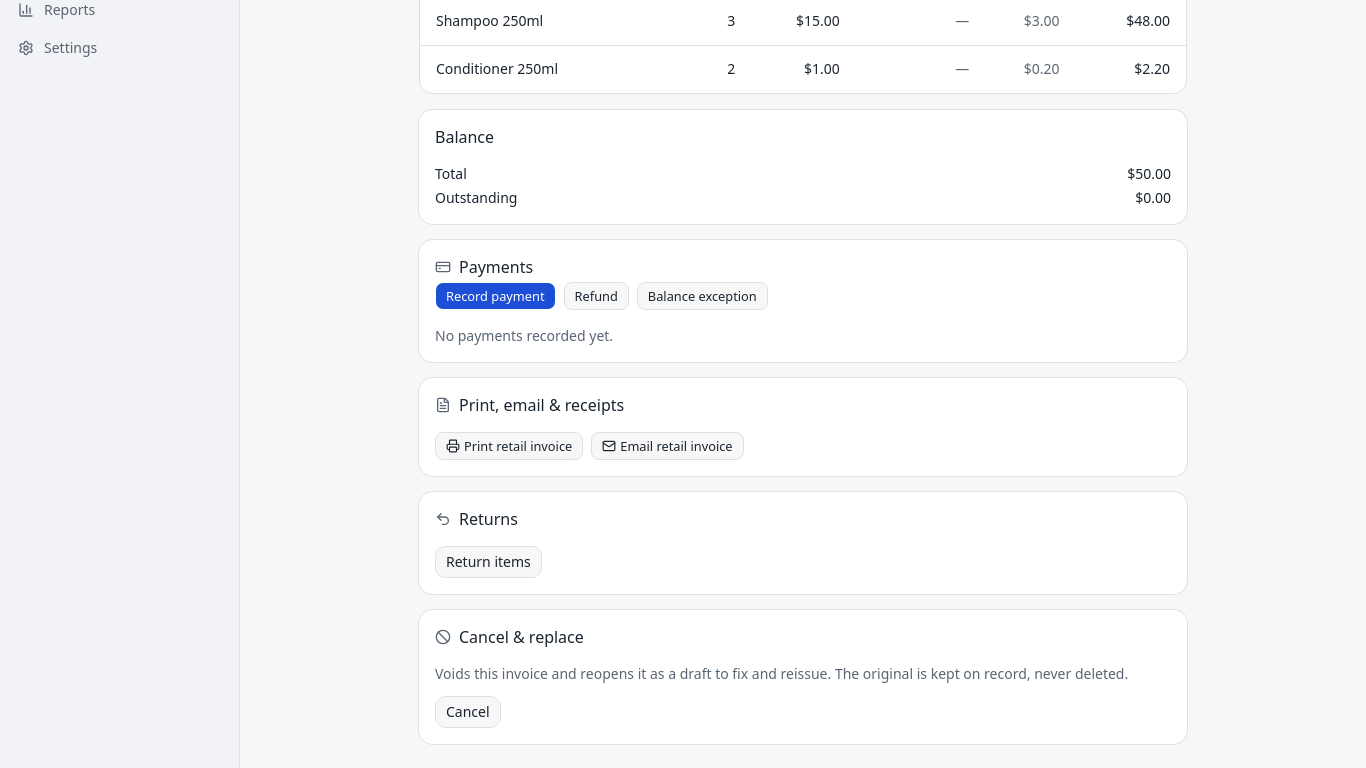
submitting sends the chosen line, quantity, restock and refund
(page scrolled)
Click the button "Return items": (488, 562) [435,546,542,578]
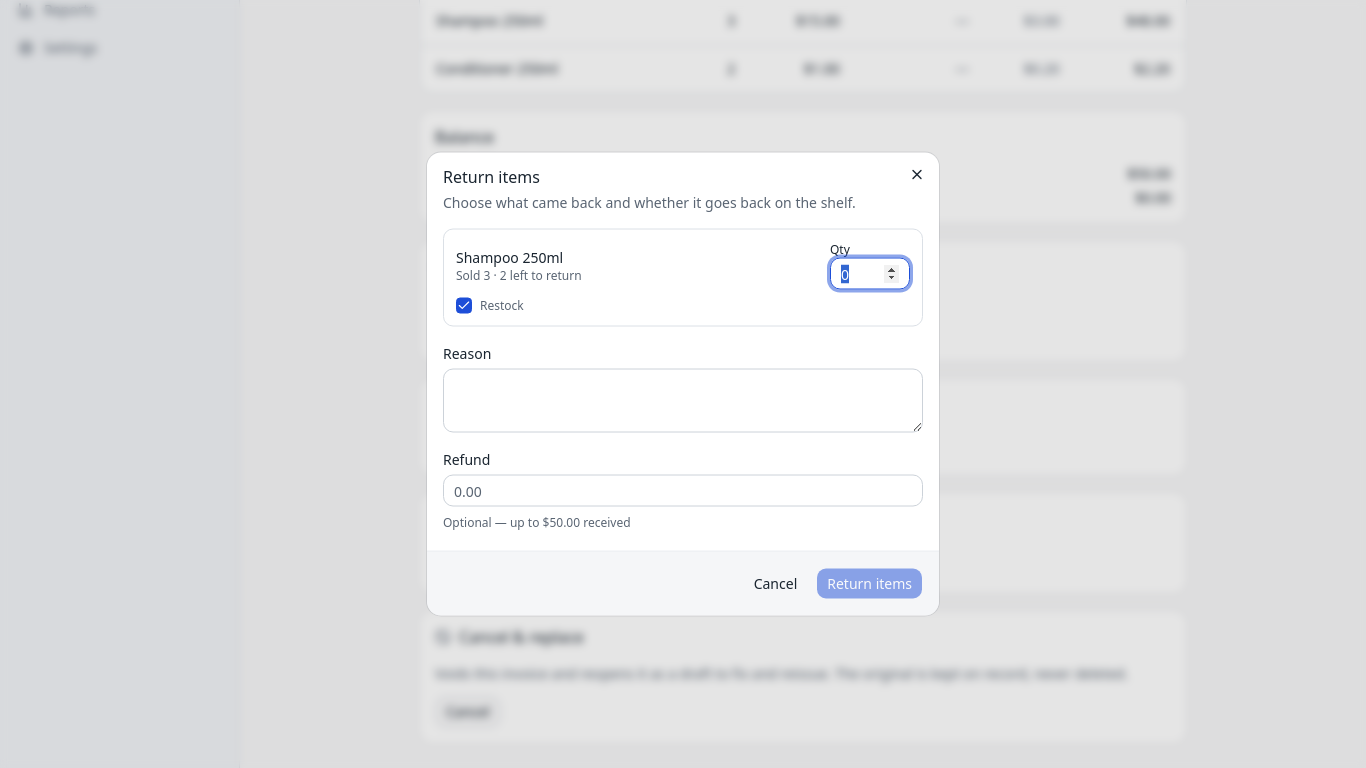
Replace the text in the number field labelled "Qty" with "2": (870, 274) [830,258,910,290]
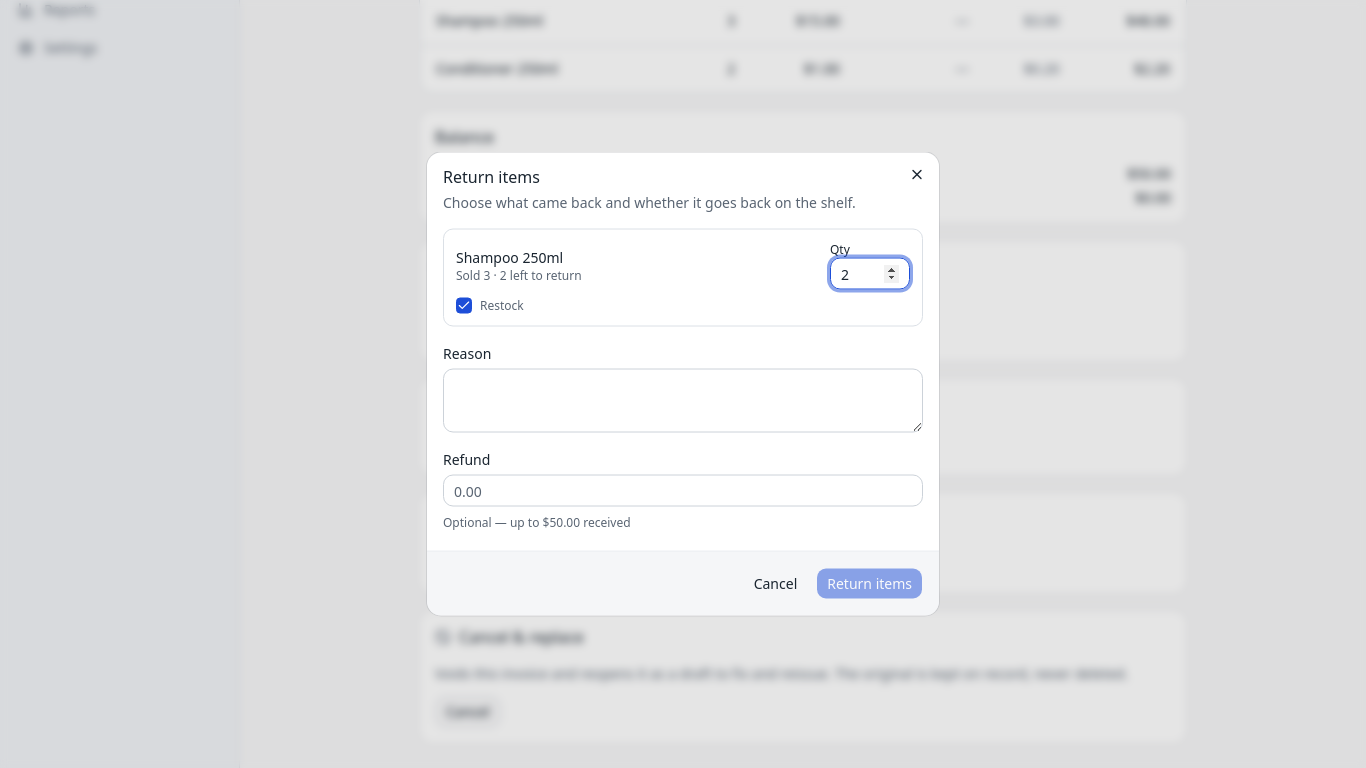
In the text box labelled "Reason": (683, 400) [443,368,923,432], type "Client changed mind"
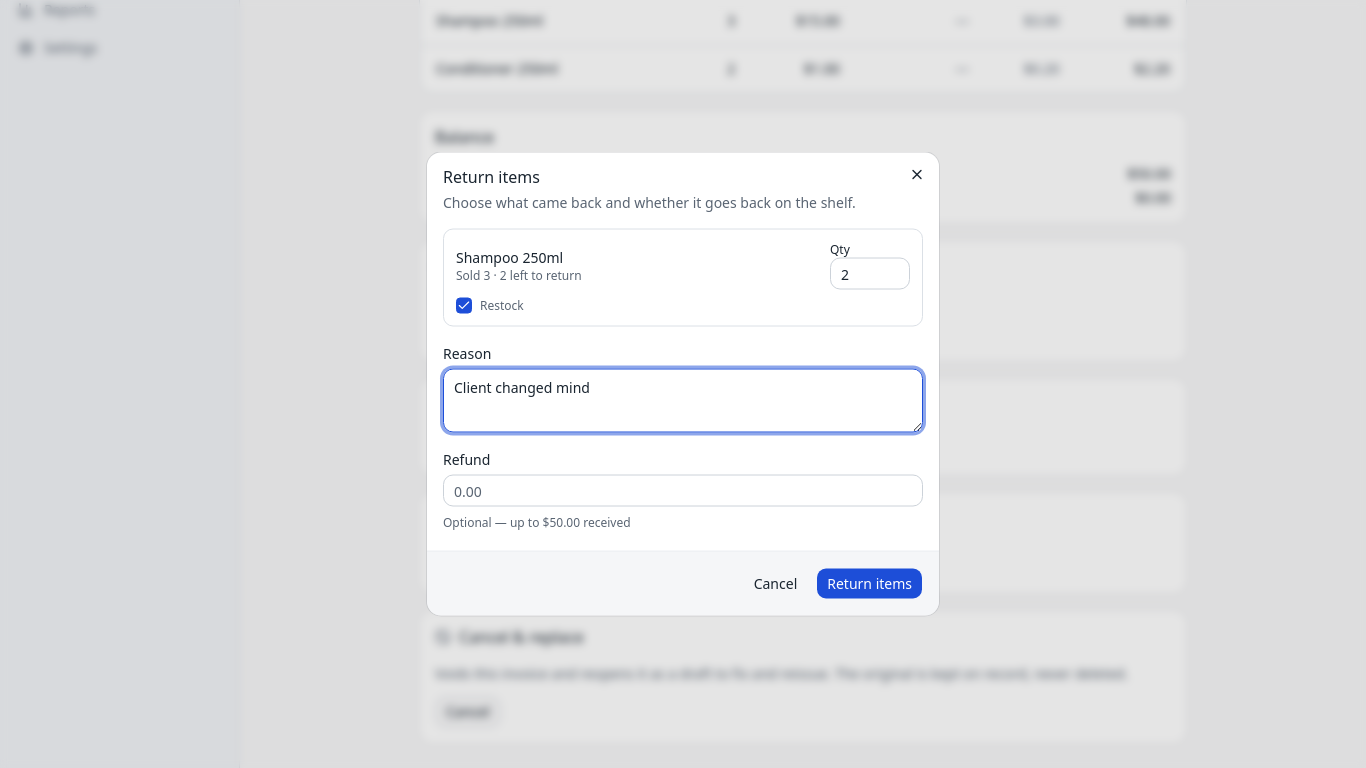
In the field labelled "Refund": (683, 490) [443,474,923,506], type "30"
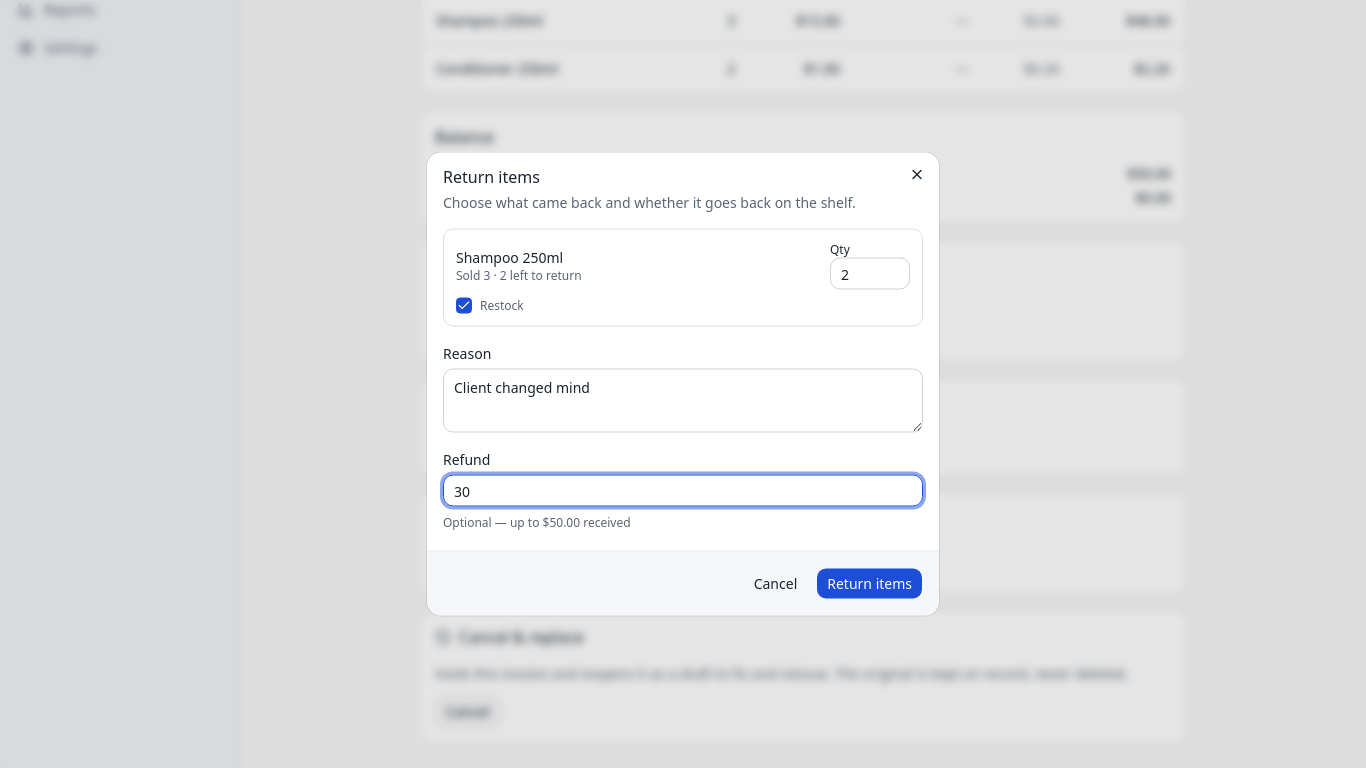
Click the button "Return items": (870, 584) [816,568,923,600]
(page scrolled)
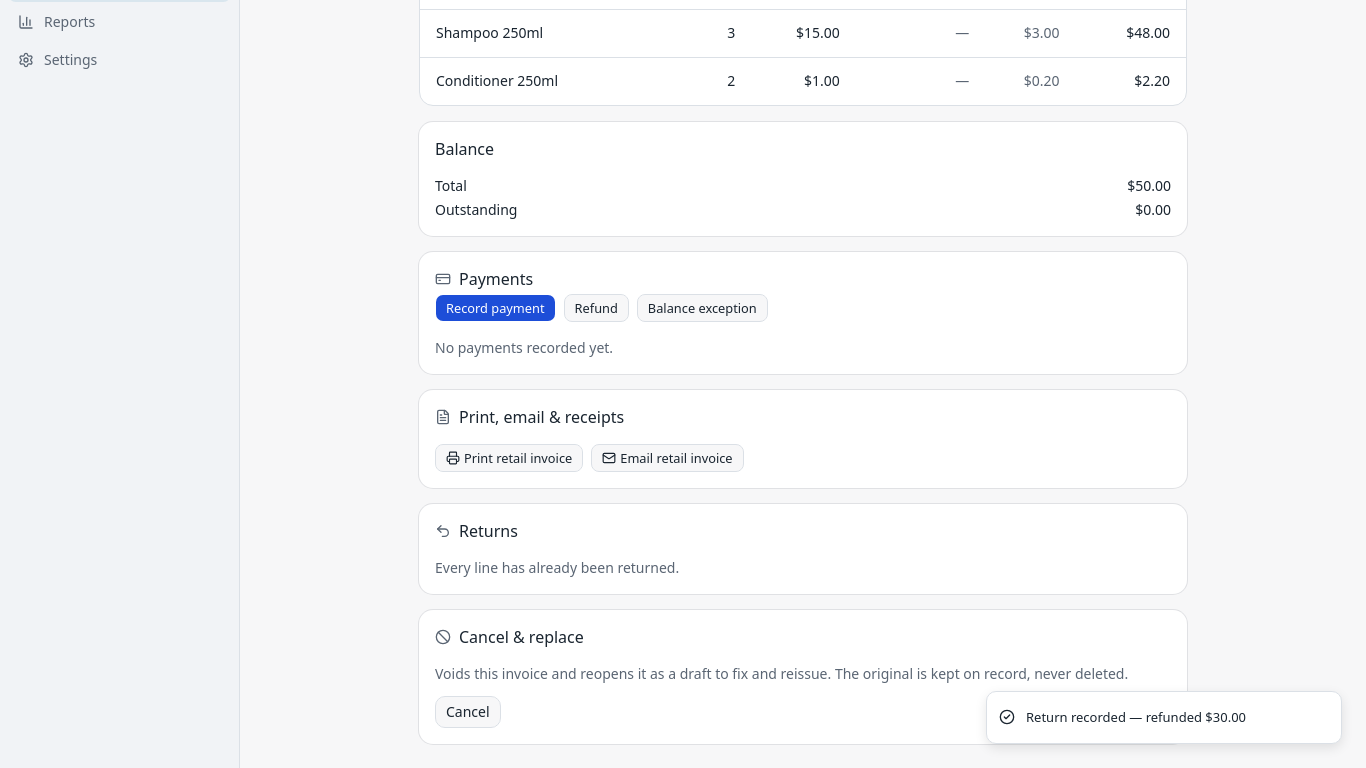
Check: the dialog is gone
